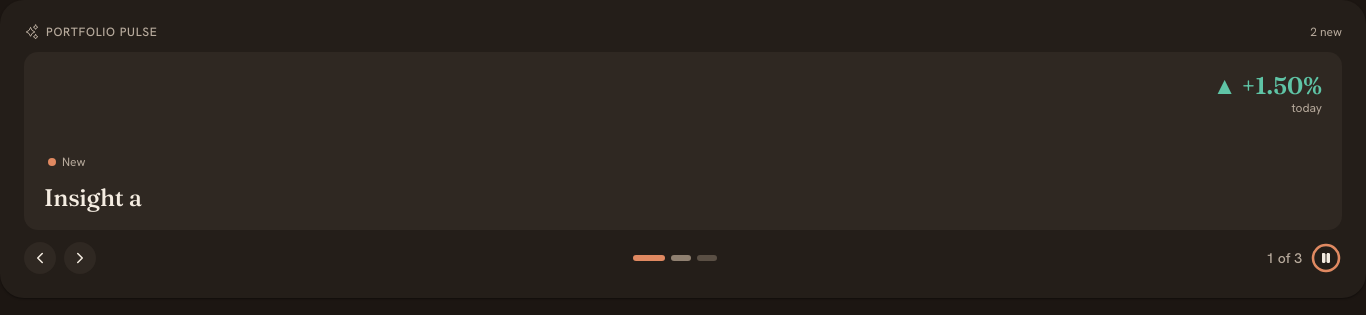
Test case: carousel: hovering holds the ring; arrows wrap around
This screenshot has width=1366, height=315.
Hover over the element showing "Portfolio Pulse 2 new New Insight a ▲ +1.50% today 1 of 3": [683, 149] box [0,0,1365,298]
Click the button named "Previous insight": [40, 258] box [24,242,56,274]
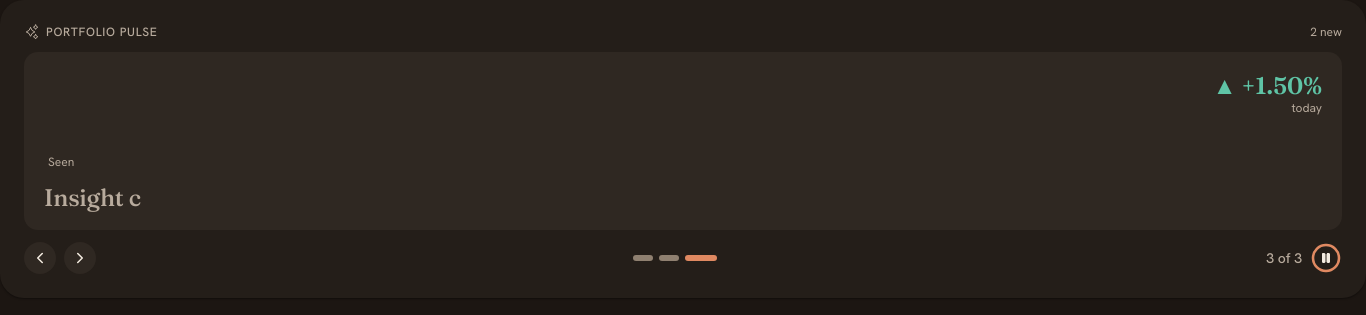
Expected: the text "3 of 3" is shown, [1266,249,1302,267]
